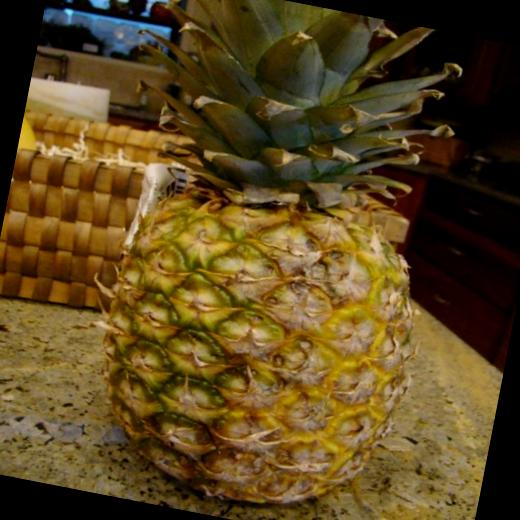Mango: (53, 0, 480, 520)
